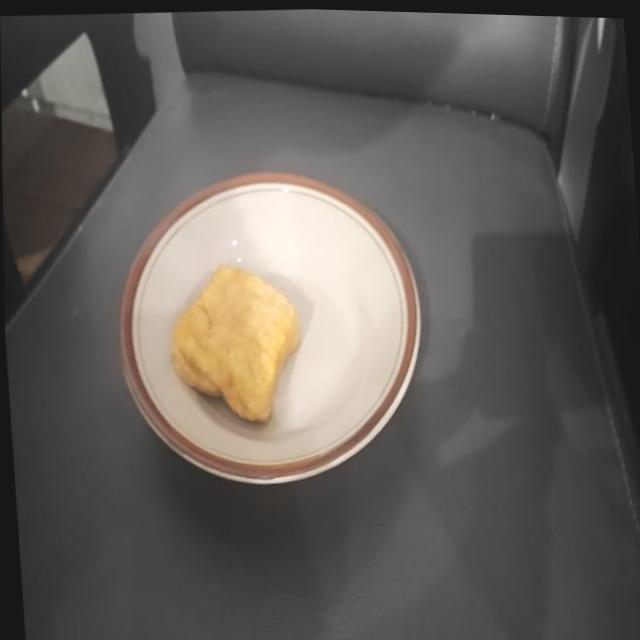tahu_goreng: (173, 265, 300, 422)
